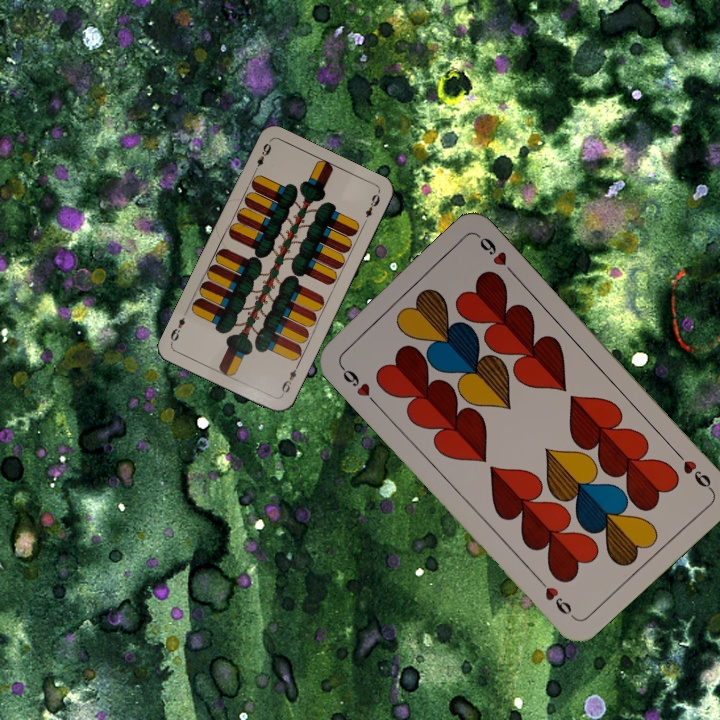E9: (249, 139, 274, 176), (277, 360, 301, 398)
H9: (670, 446, 715, 494), (335, 360, 380, 408)
